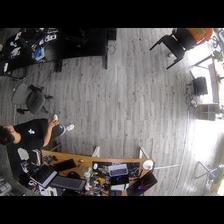normal: (2, 115, 75, 148)
